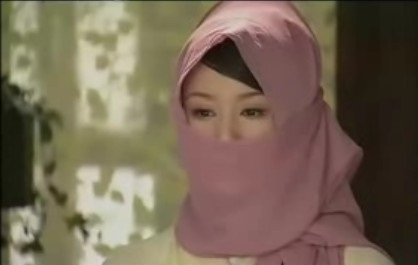face_mask: (183, 58, 293, 194)
